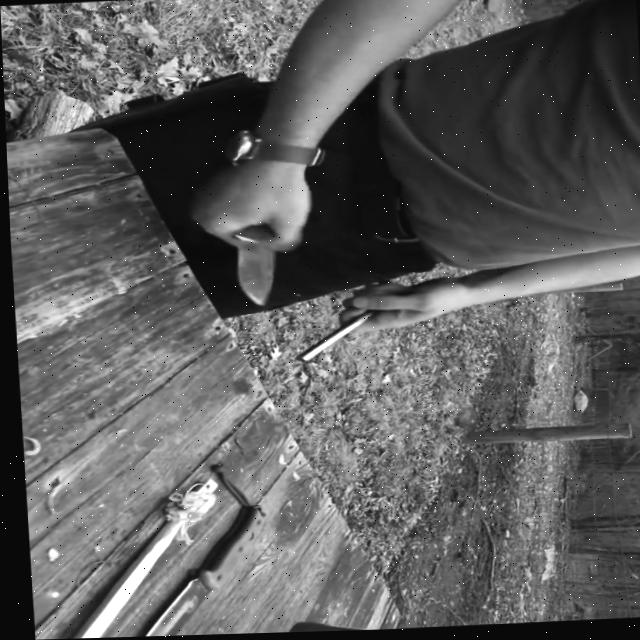knife: (223, 224, 277, 308)
